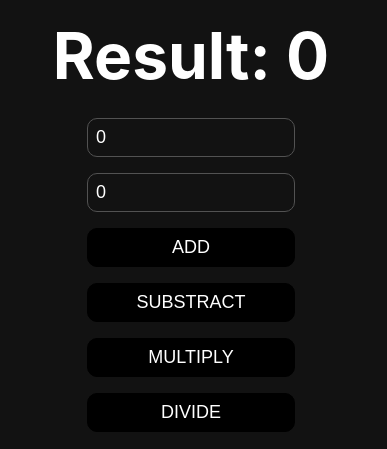
Test case: Calculator › method "add" really adds numbers into result constant
The image size is (387, 449).
Replace the text in the number field with test id "number1" with "123". click: (191,137)
box: [87,118,295,156]
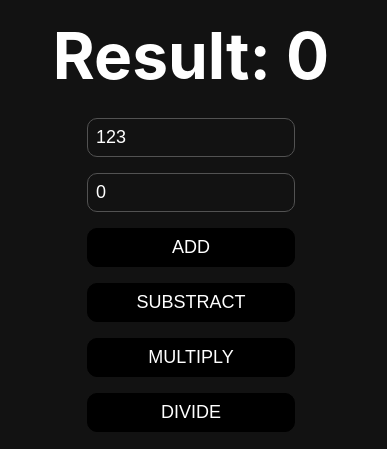
Replace the text in the number field with test id "number2" with "543". click: (191,192)
box: [87,172,295,212]
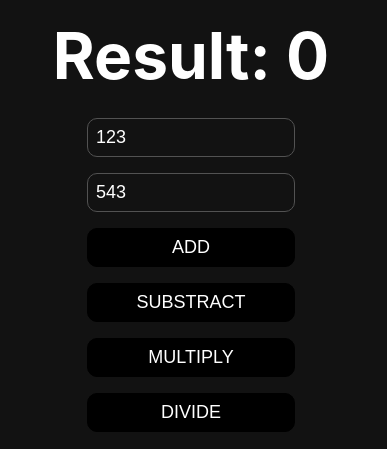
Click the button with test id "add". click: (191,247)
box: [87,228,295,266]
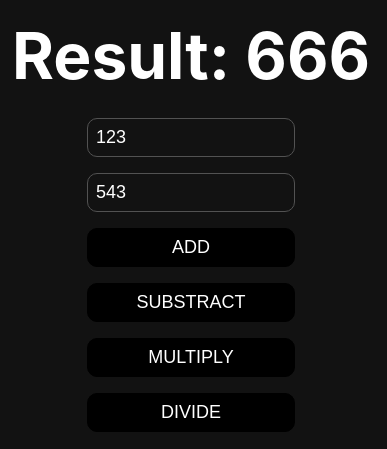
Expected: the text with test id "result" shows "666", [245,16,370,94]
